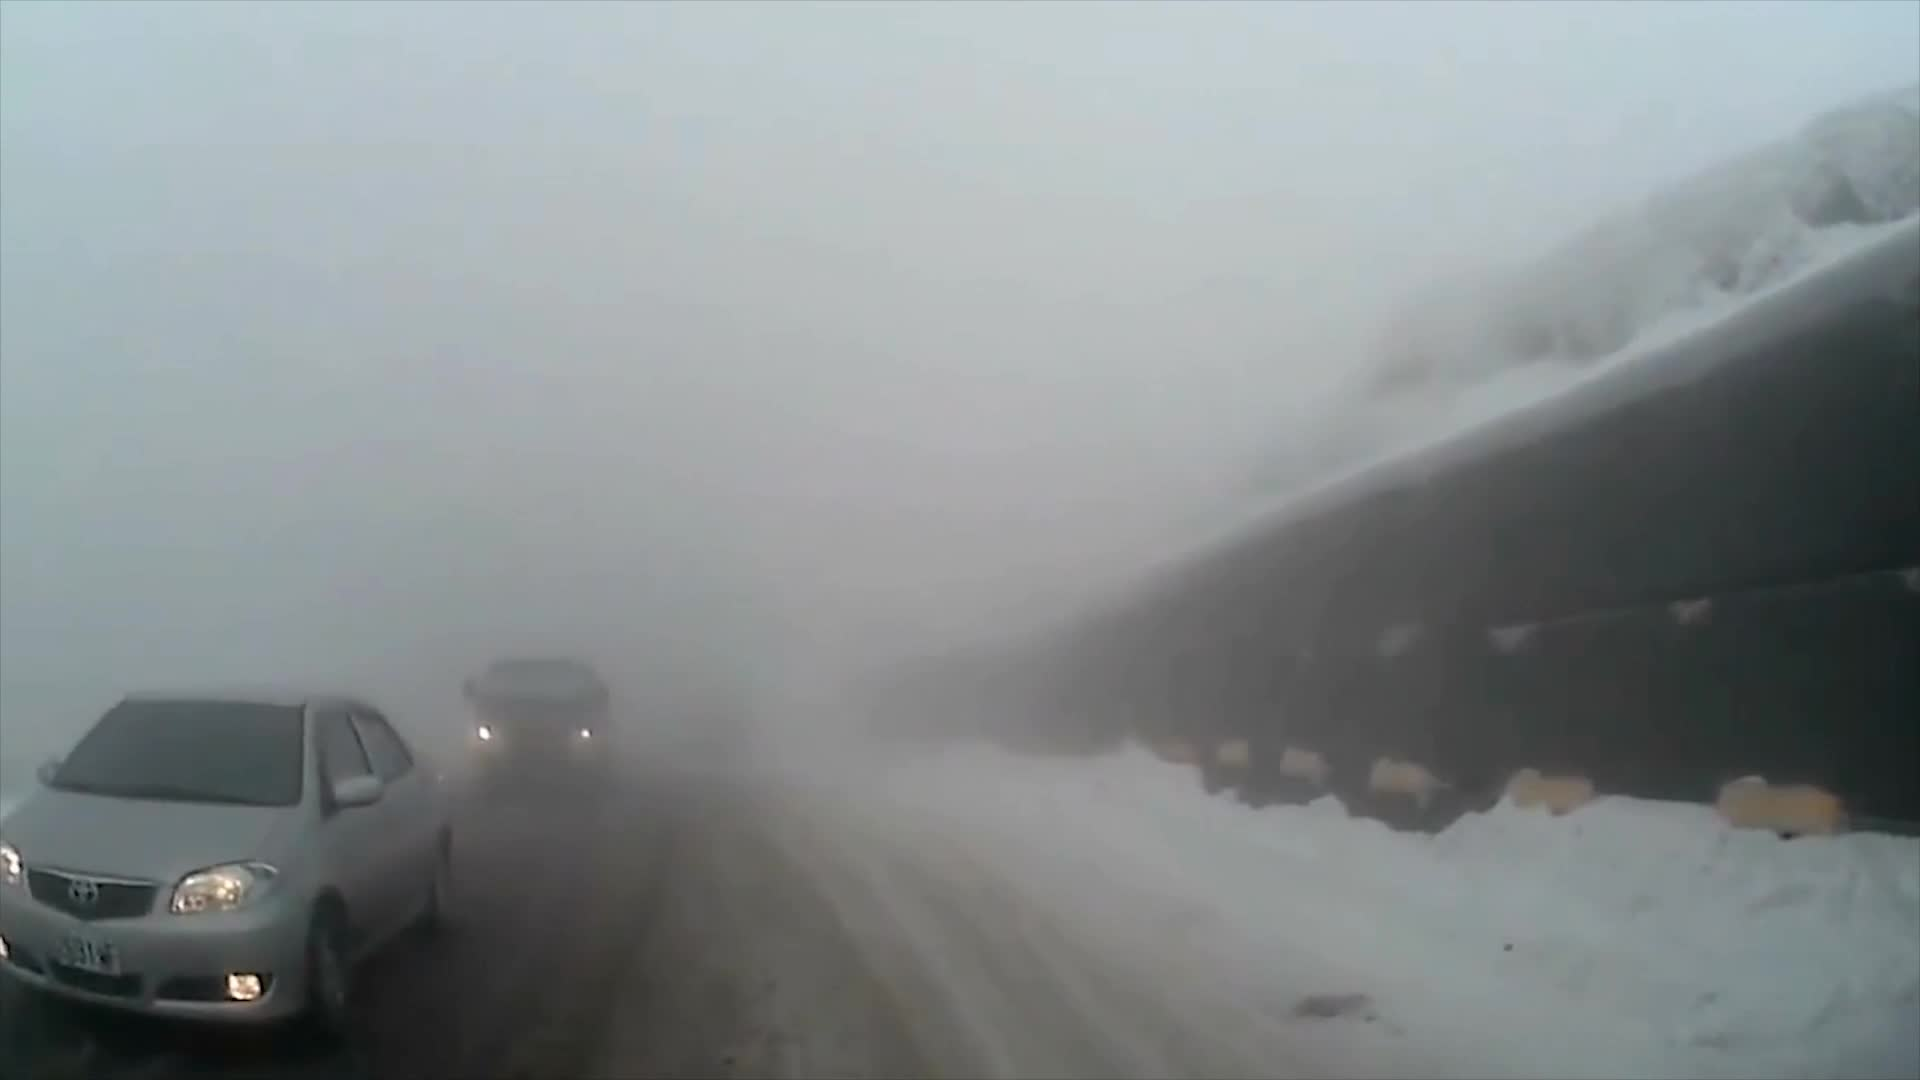vehicle: (9, 680, 462, 1047), (459, 650, 616, 789)
